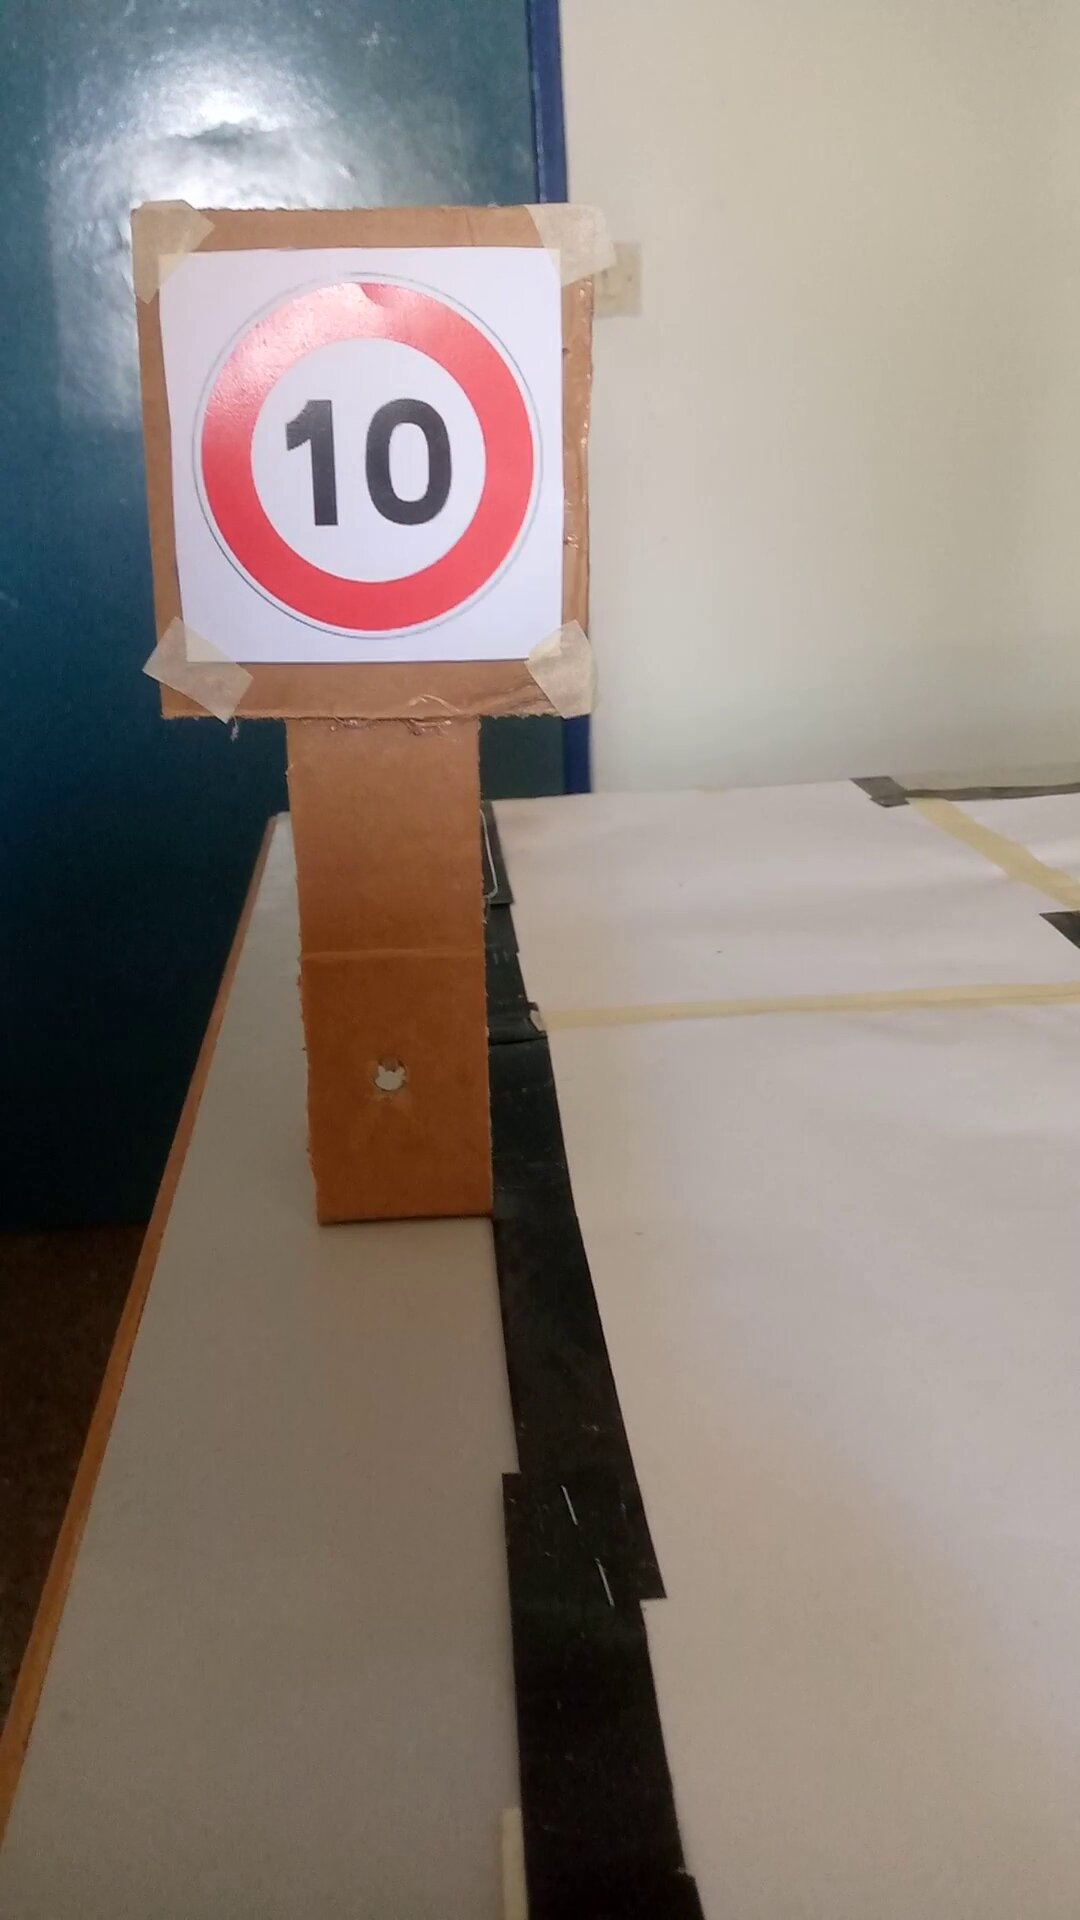panel011: (153, 237, 575, 659)
